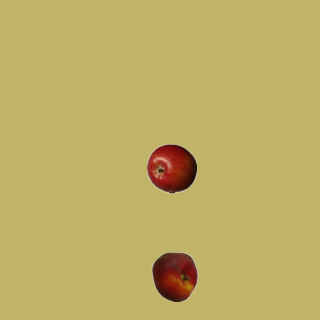Apple Braeburn: (146, 143, 196, 193)
Nectarine Flat: (149, 251, 199, 301)
